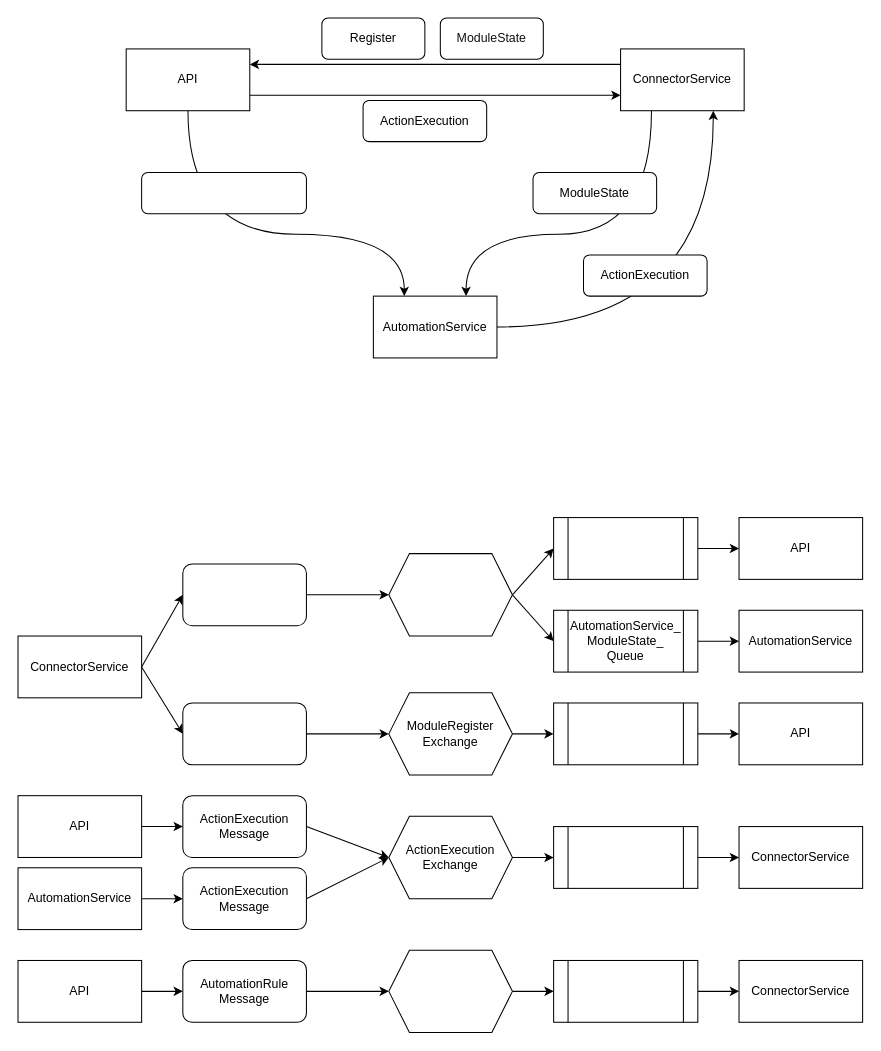
This 881x1051 diagram has some shape labels left out. The centre of each missing label's shape, as x and y in pixels:
"API_ ModuleRegister_ Queue" belongs at [625,733].
"API_ ModuleState Queue" belongs at [625,548].
"AutomationRule Exchange" belongs at [450,991].
"AutomationRulesChange" belongs at [223,192].
"ConnectorService_ ActionExecution_ Queue" belongs at [625,857].
"ConnectorService_ AutomationRule_ Queue" belongs at [625,990].
"ModuleRegister Message" belongs at [244,733].
"ModuleState Exchange" belongs at [450,594].
"ModuleState Message" belongs at [244,594].
